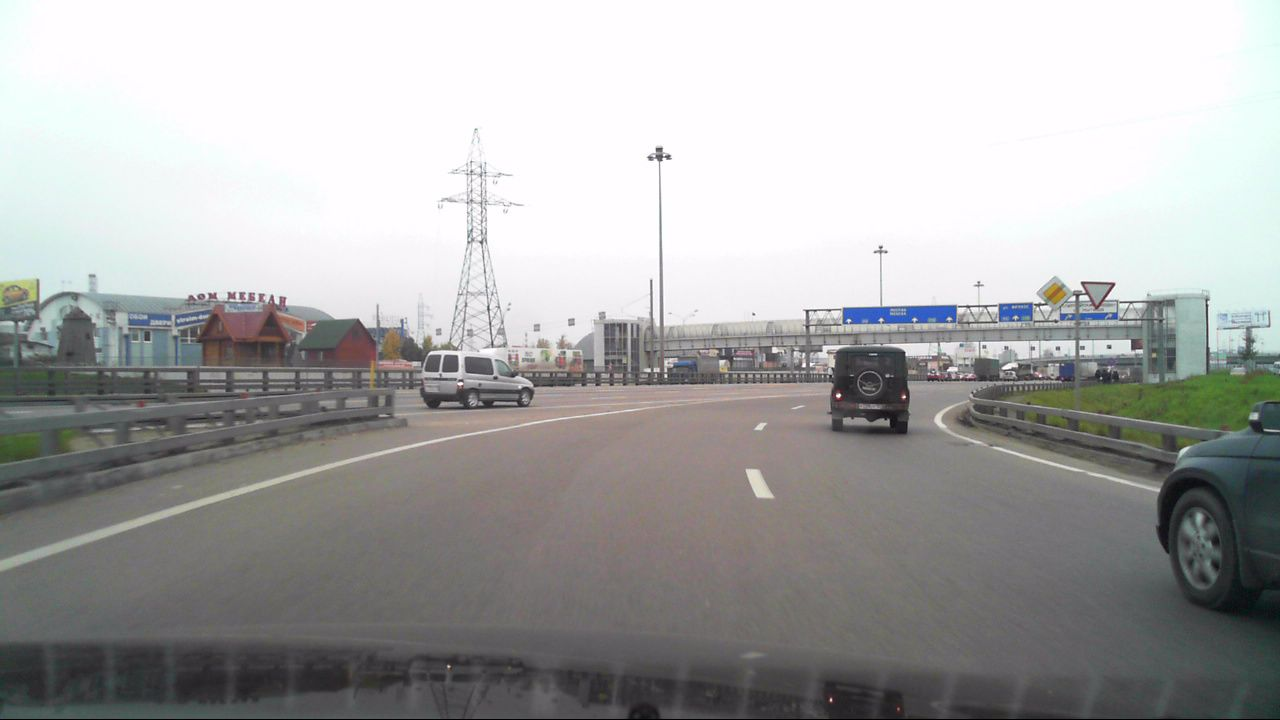main road: (1036, 275, 1072, 310)
